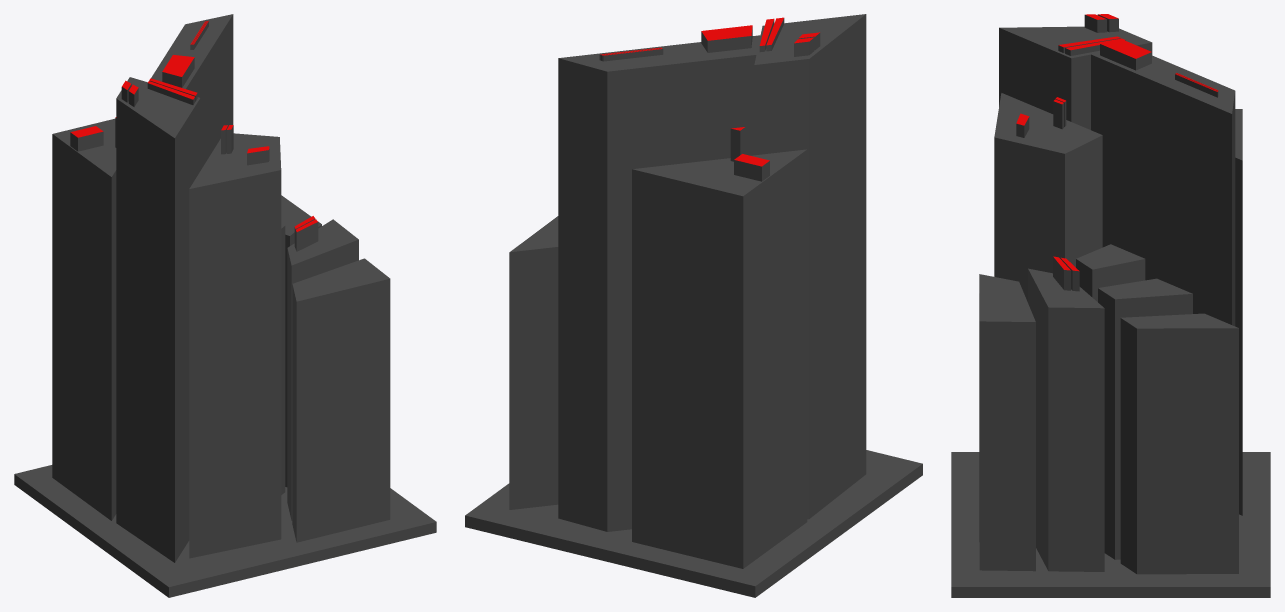
File: block_1.FBX
3 views of the same model, side by side, from view 1: azimuth 30°, elevation 25°; view 2: azimuth 150°, elevation 25°; view 3: azimuth 270°, elevation 25° (orthographic). The views are drawn at different scales.
Visible parts, largest first — view 1: Plane01, panels; view 2: Plane01, panels; view 3: Plane01, panels.
Boxes of the visible parts, bbox=[...] form: Plane01: bbox=[14, 14, 436, 597]; panels: bbox=[70, 21, 317, 231]; Plane01: bbox=[465, 14, 922, 597]; panels: bbox=[600, 17, 819, 166]; Plane01: bbox=[951, 14, 1270, 597]; panels: bbox=[1016, 14, 1218, 271].
Bounding box in the file's own units: 78.13 × 125 × 78.13.
